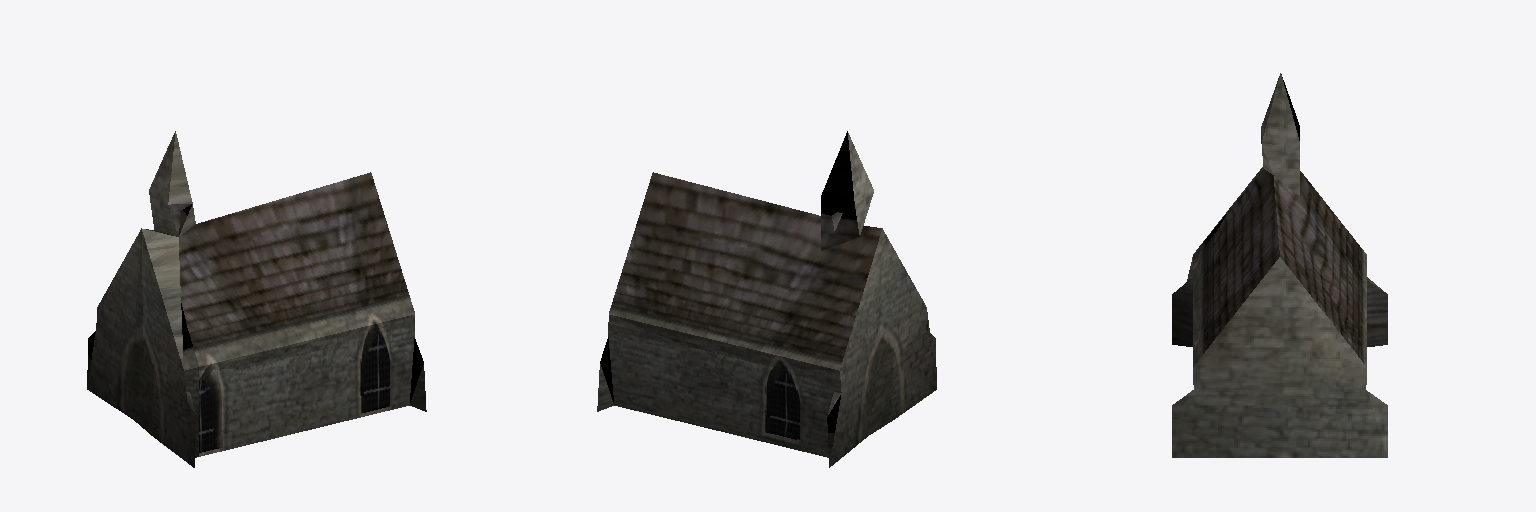
The picture shows the model from 3 angles: view 1: azimuth 30°, elevation 25°; view 2: azimuth 150°, elevation 25°; view 3: azimuth 270°, elevation 25°; orthographic projection.
Visible parts, largest first — view 1: Mesh.002_chapel.005; view 2: Mesh.002_chapel.005; view 3: Mesh.002_chapel.005.
Part boxes in pixels (x1,y1,x2,y2): Mesh.002_chapel.005: (87, 131, 426, 467); Mesh.002_chapel.005: (597, 131, 936, 467); Mesh.002_chapel.005: (1172, 73, 1387, 457).
Size of the model in its own units: 8.23 by 9.77 by 6.62.
Materials: 1 (1 with a texture image).